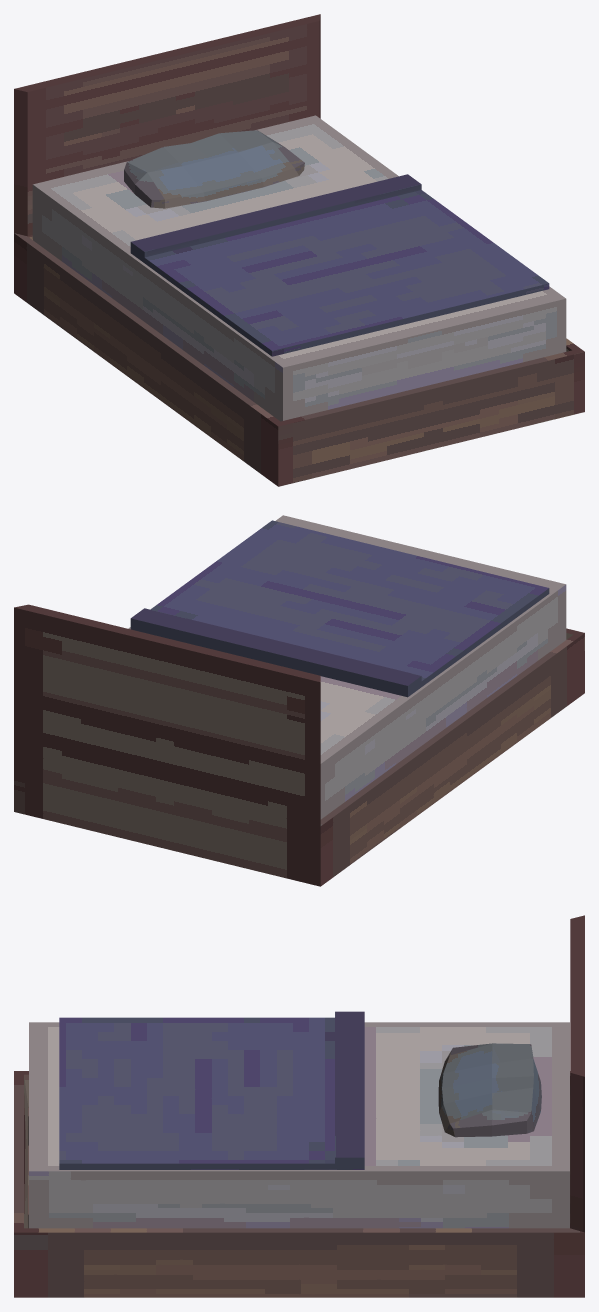
The model's file is Bed.glb.
3 renders of one model, top to bottom at view 1: azimuth 30°, elevation 25°; view 2: azimuth 150°, elevation 25°; view 3: azimuth 270°, elevation 25°, orthographic. The views are drawn at different scales.
Visible parts, largest first — view 1: Cube, Cube.001, Cube.003, Cube.002; view 2: Cube, Cube.003, Cube.001; view 3: Cube.001, Cube.003, Cube, Cube.002.
Boxes of the visible parts, box(x1,y1,x2,y2) form: Cube: box(14, 14, 584, 486); Cube.001: box(32, 115, 566, 421); Cube.003: box(130, 174, 549, 356); Cube.002: box(124, 130, 304, 208); Cube: box(14, 604, 584, 886); Cube.003: box(130, 520, 549, 697); Cube.001: box(128, 515, 566, 819); Cube.001: box(29, 1022, 569, 1228); Cube.003: box(59, 1011, 364, 1169); Cube: box(14, 915, 584, 1297); Cube.002: box(438, 1043, 541, 1137).
Size of the model in its own units: 4.24 by 2.7 by 6.34.
4 materials, 4 textured.
